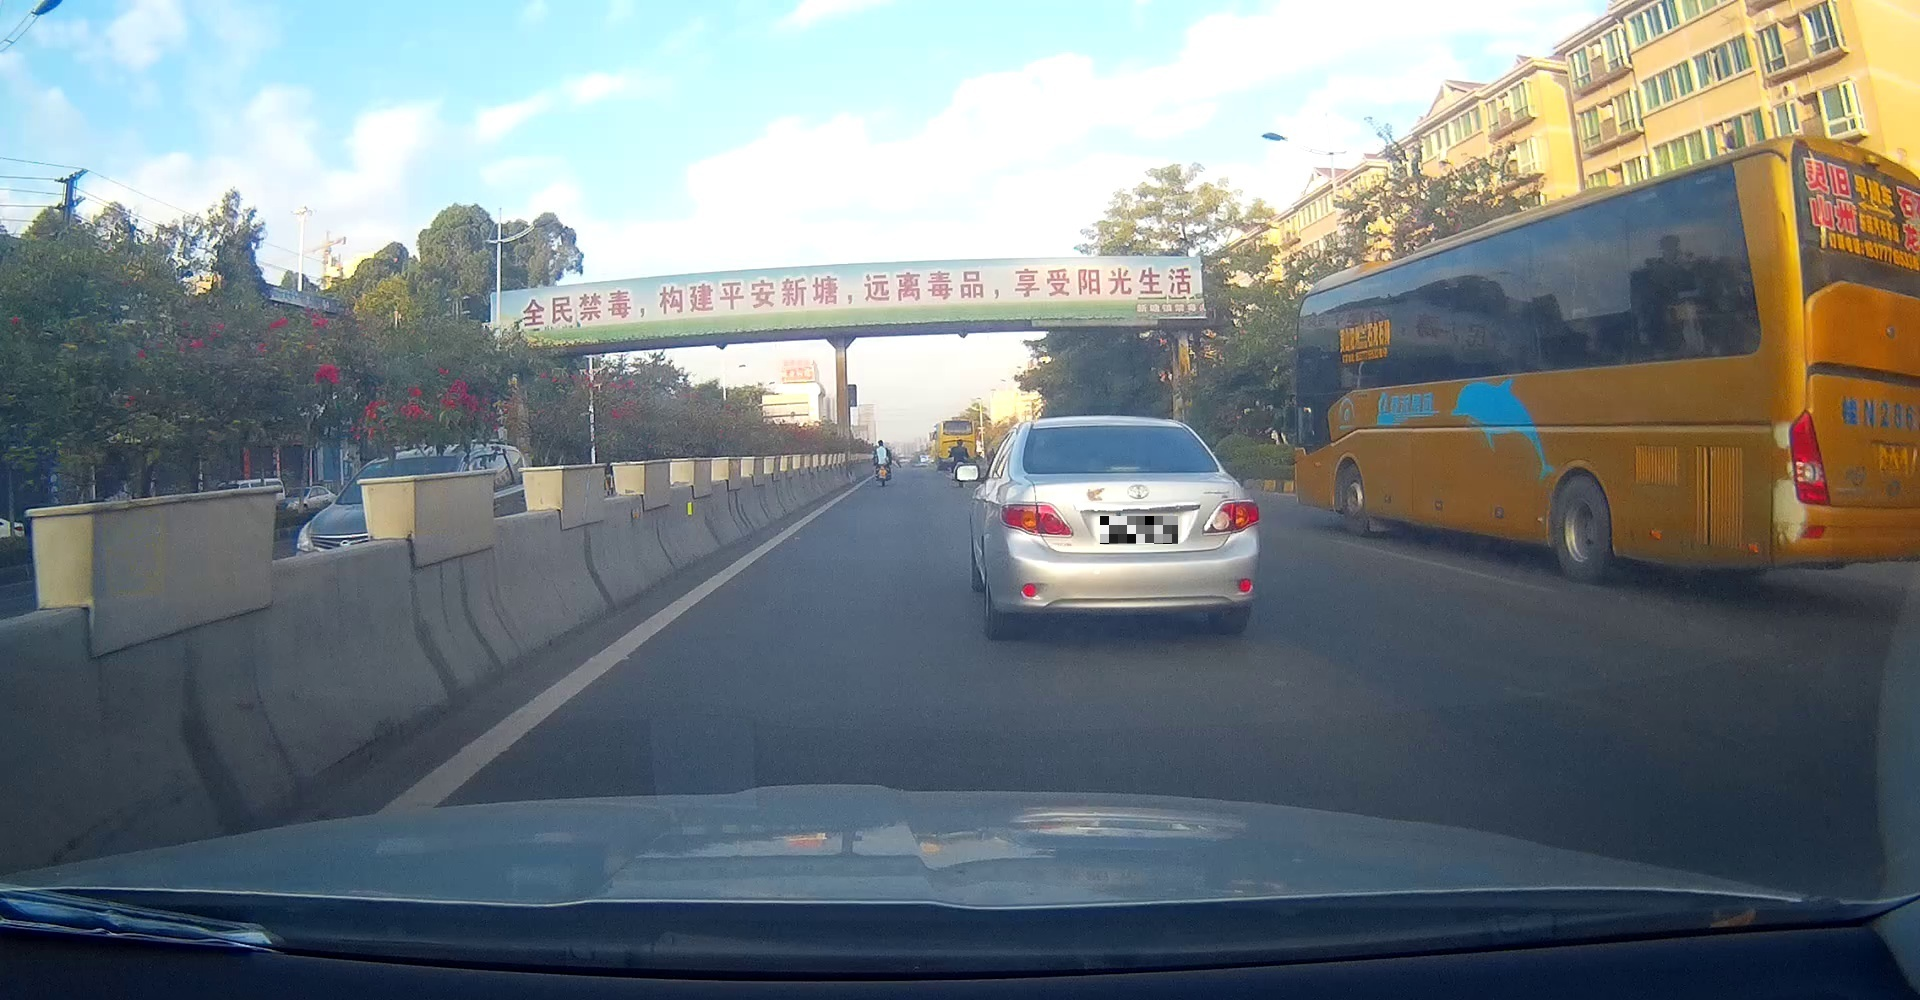L_light: (998, 501, 1074, 538)
R_light: (1201, 499, 1260, 536)
T_light: (1098, 426, 1128, 435)
day-no: (999, 416, 1262, 642)
plate_1: (1100, 516, 1178, 544)
